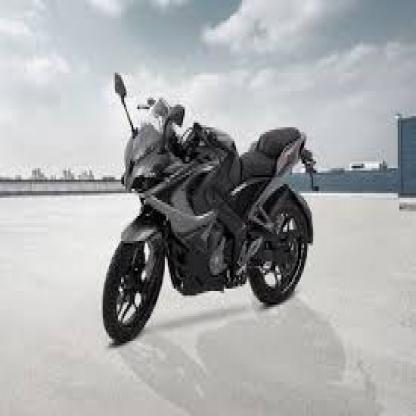Motorcycle: (100, 62, 321, 362)
